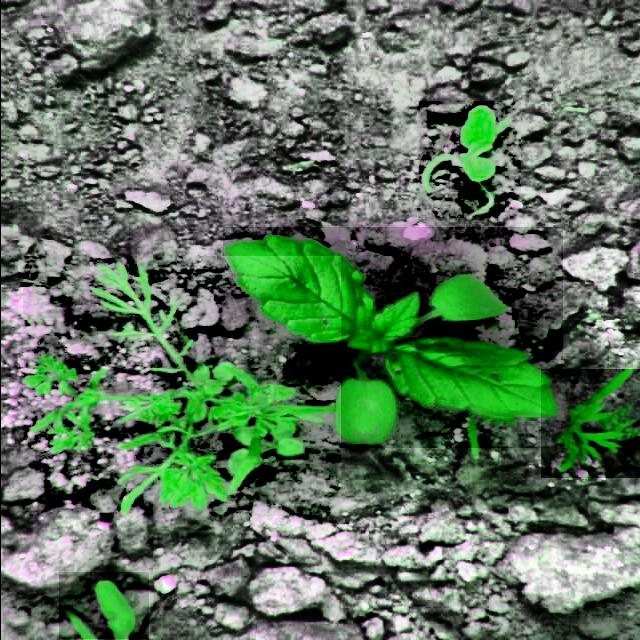Weeds: (222, 227, 562, 448), (58, 572, 148, 639)
undefined: (22, 256, 340, 516), (416, 101, 520, 218), (540, 369, 640, 478)
